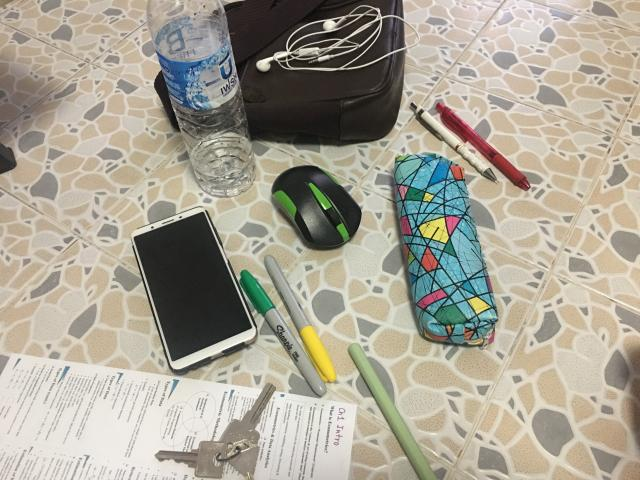Keys: (155, 384, 275, 480)
Mobile phone: (131, 208, 258, 374)
Mouse: (271, 165, 361, 248)
Pen: (240, 270, 326, 396), (264, 255, 336, 382), (436, 102, 530, 190), (410, 102, 498, 182)
bottle: (148, 0, 255, 196)
paper: (0, 355, 357, 480)
wire: (256, 5, 419, 72)
